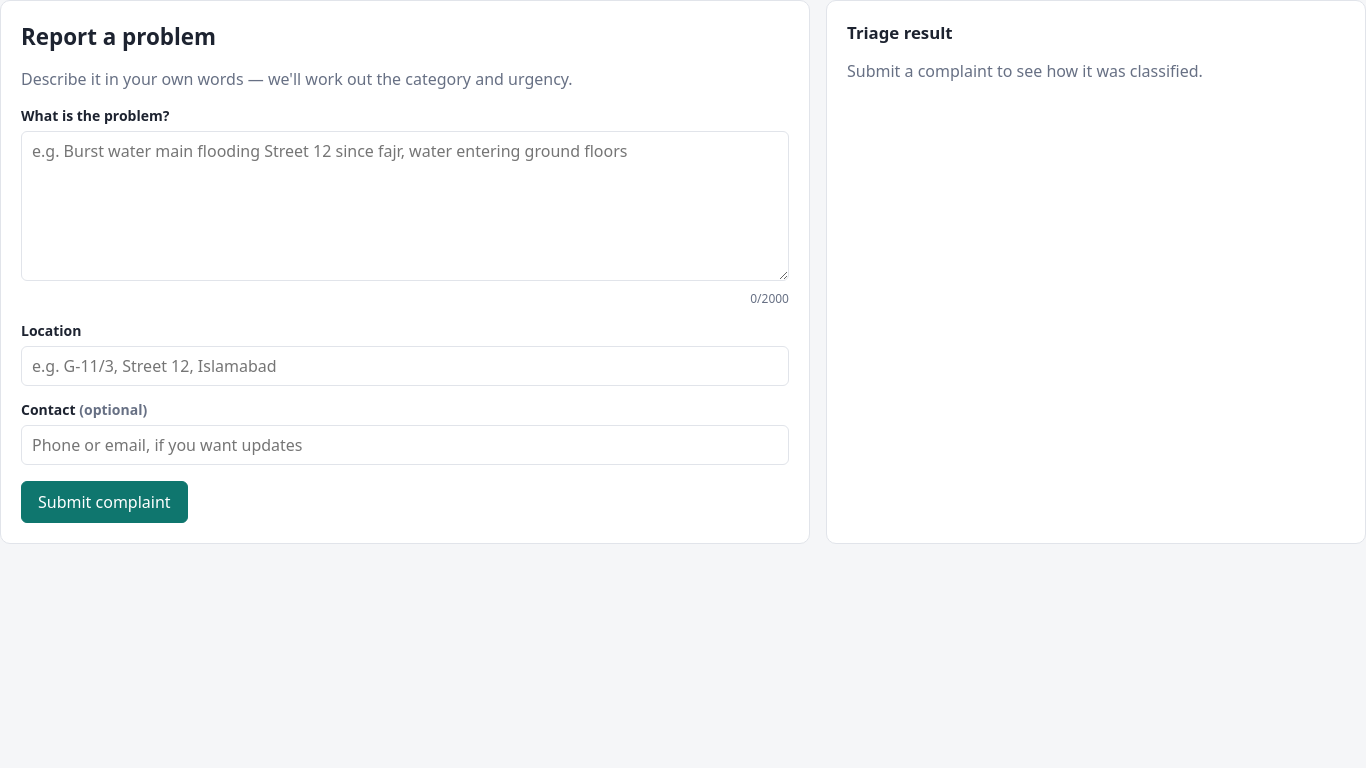
SubmitPage › surfaces the rate-limit message from a 429
Type "Burst water main flooding Street 12" into the text box labelled "What is the problem?" at [405, 206], box [21,131,789,281]
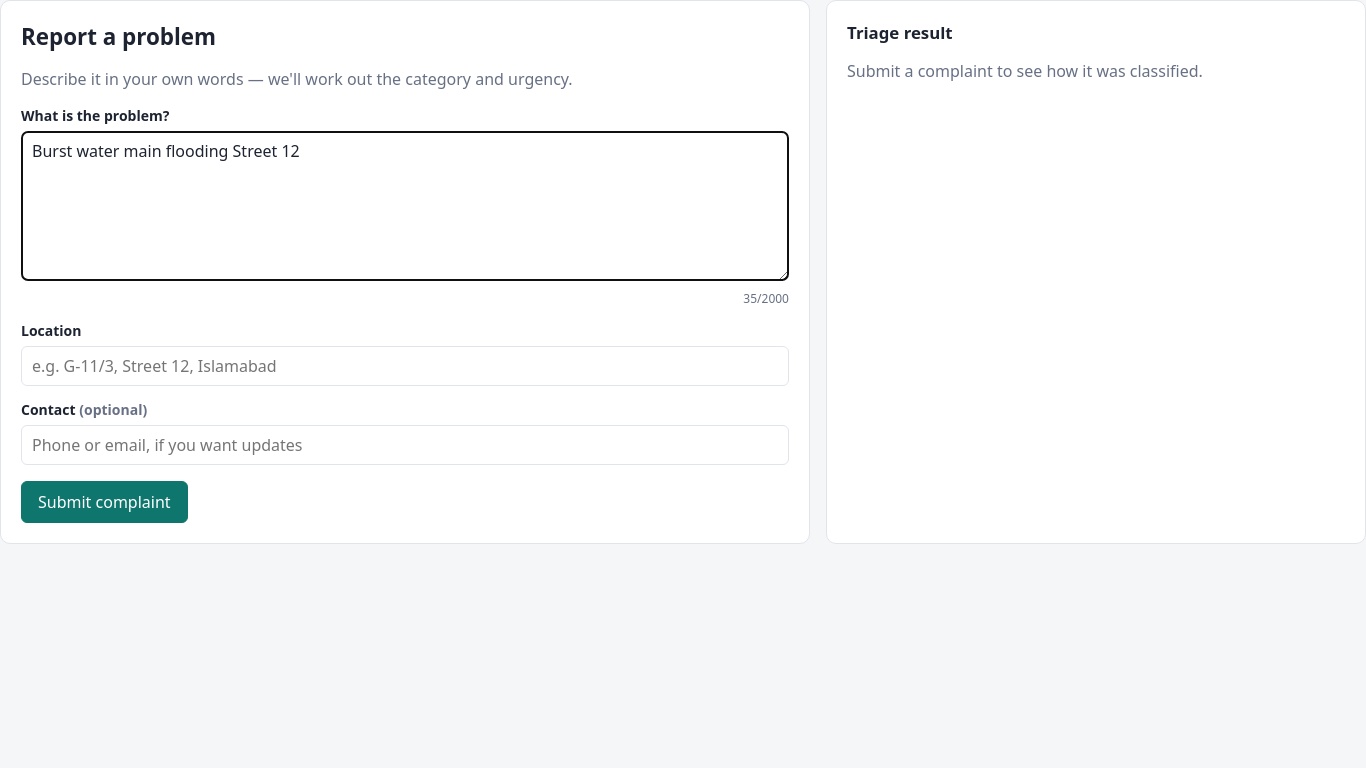
Type "G-11/3" into the field labelled "Location" at [405, 366], box [21,346,789,386]
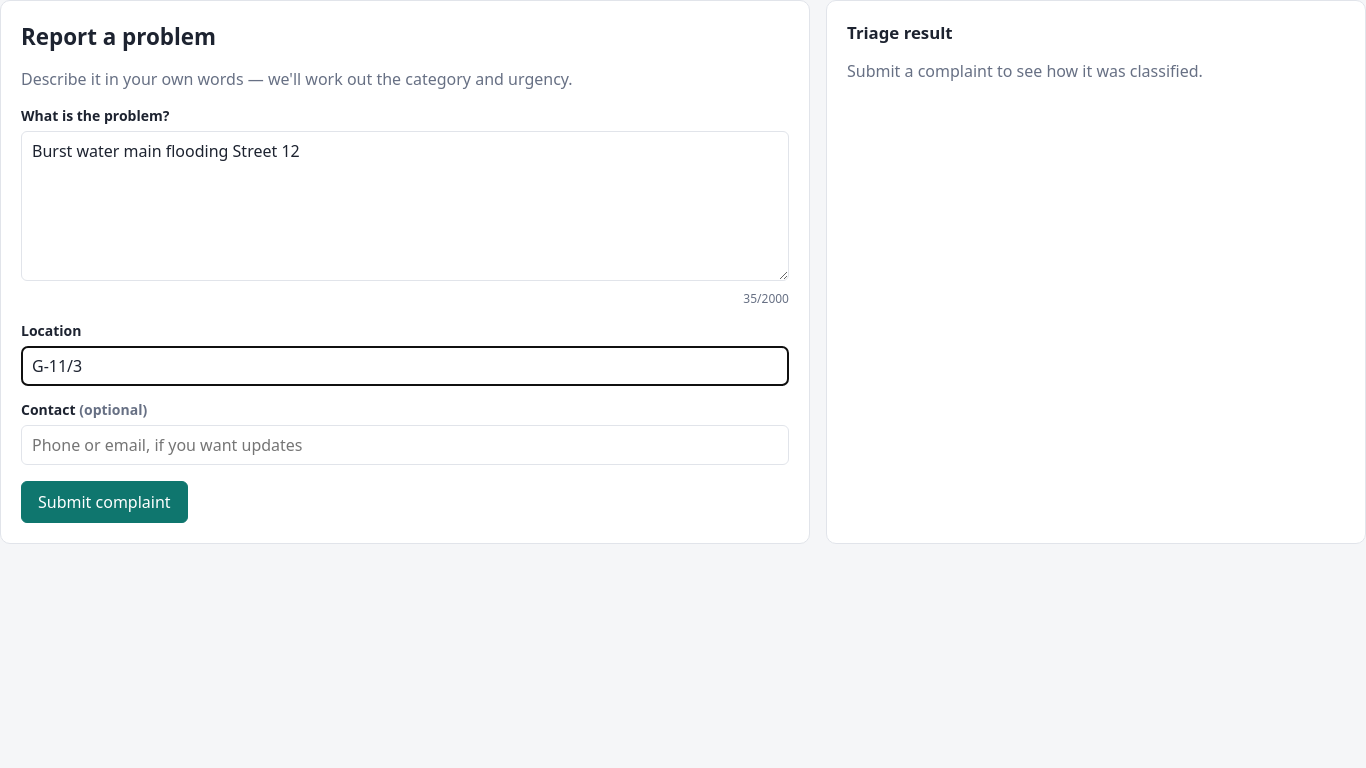
Click the button "Submit complaint" at [104, 502], box [21,481,188,523]
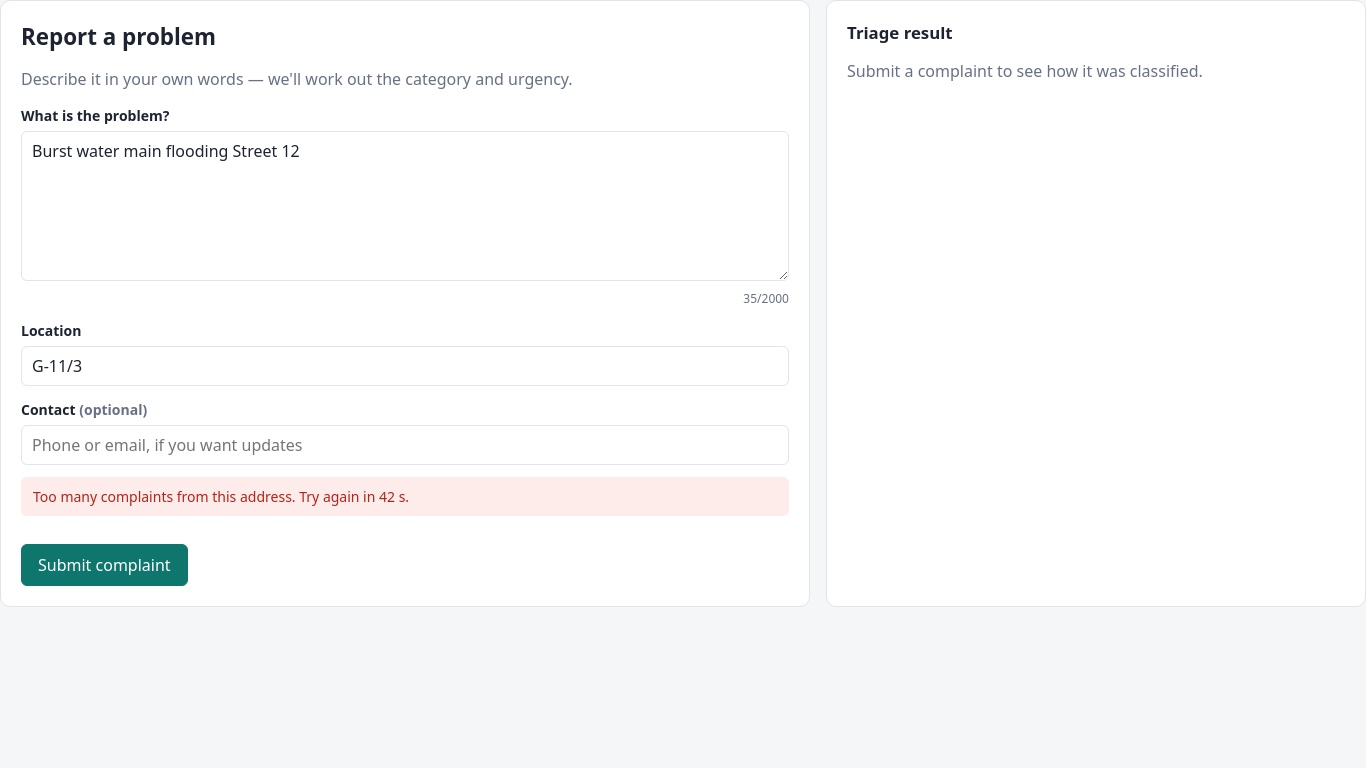
Now the message shows "Try again in 42 s.", box [33,487,409,506]
